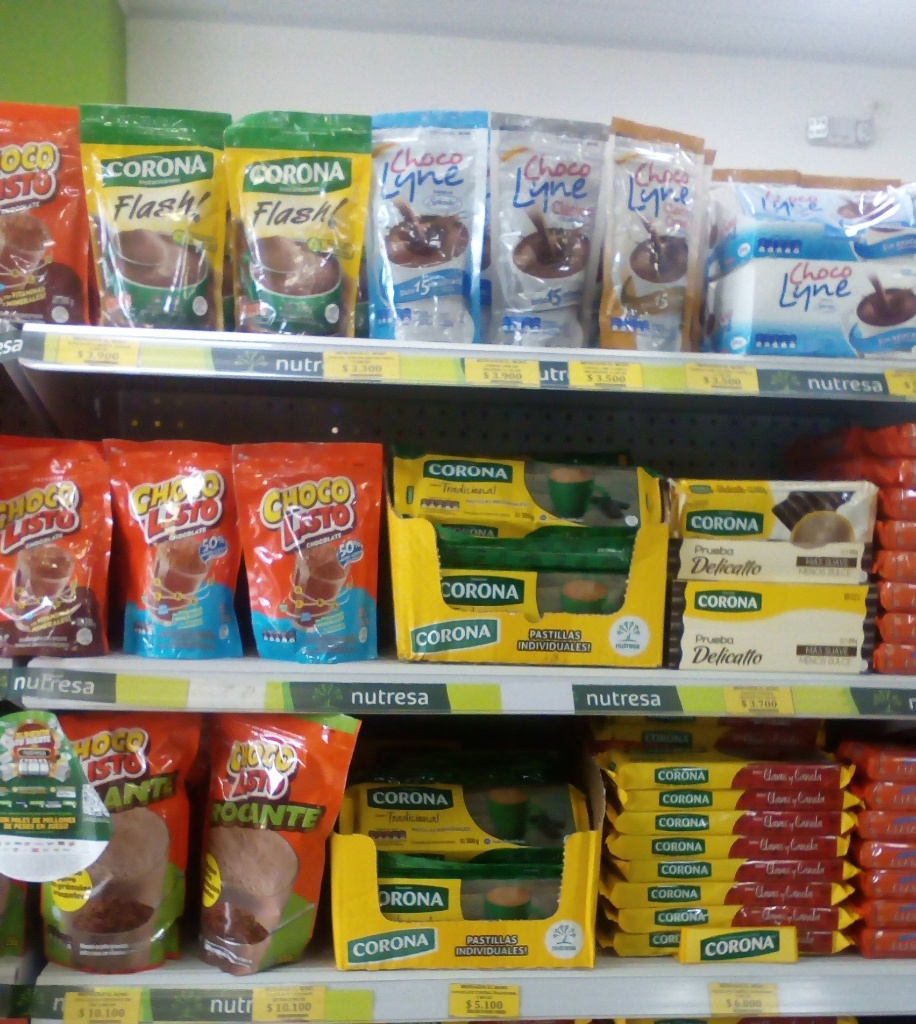COL0170102DYP50000: (47, 704, 207, 978)
COL0170104DYP20000: (103, 434, 253, 662)
